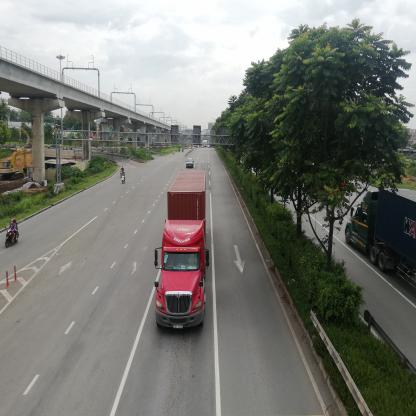car: (187, 159, 194, 171)
container: (159, 170, 210, 327), (344, 185, 416, 270)
motorbike: (5, 224, 23, 248), (123, 167, 126, 177), (123, 177, 127, 183)
